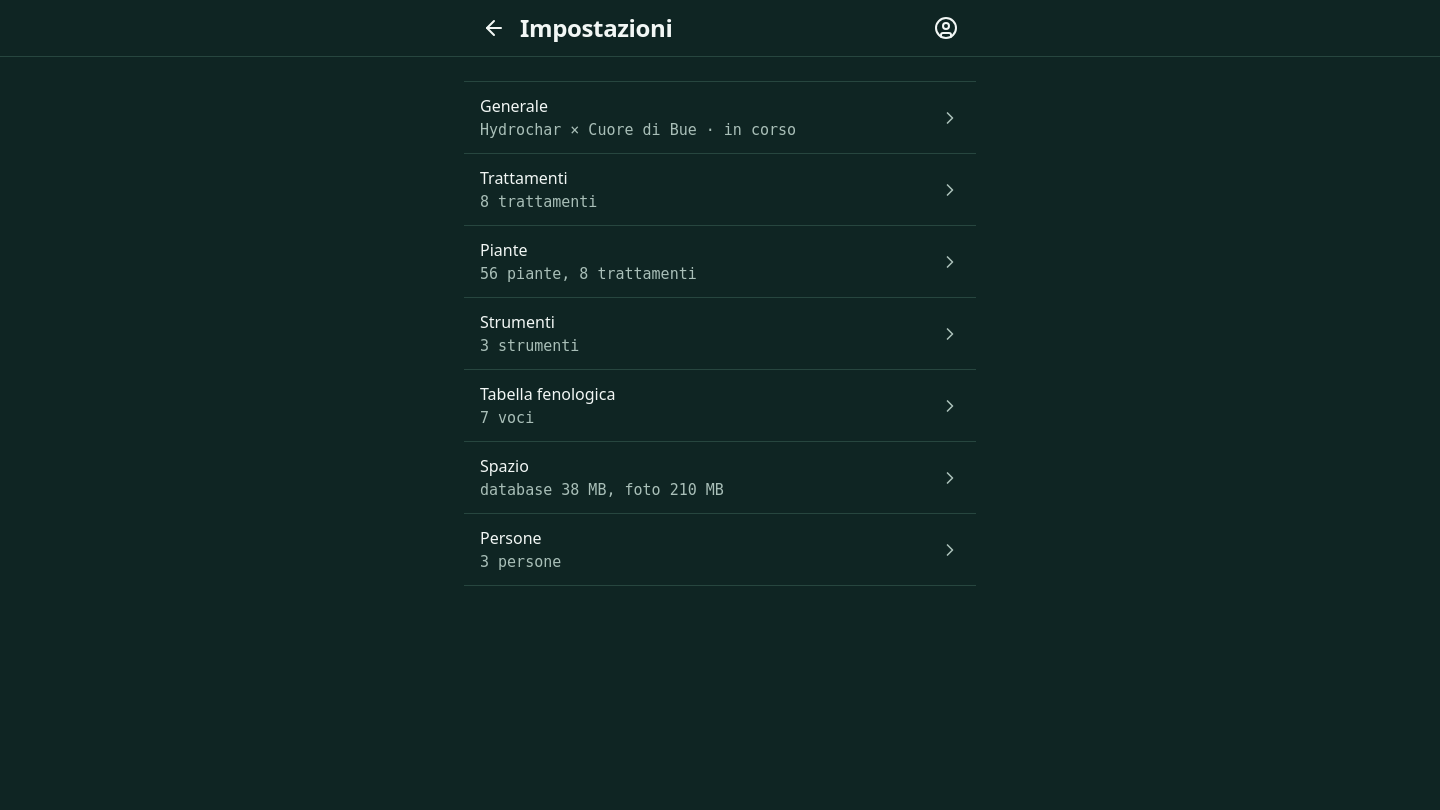
Test: indice delle Impostazioni › una riga porta alla pagina
Click the link "Persone 3 persone" at point(511, 538), box left=464, top=514, right=976, bottom=586
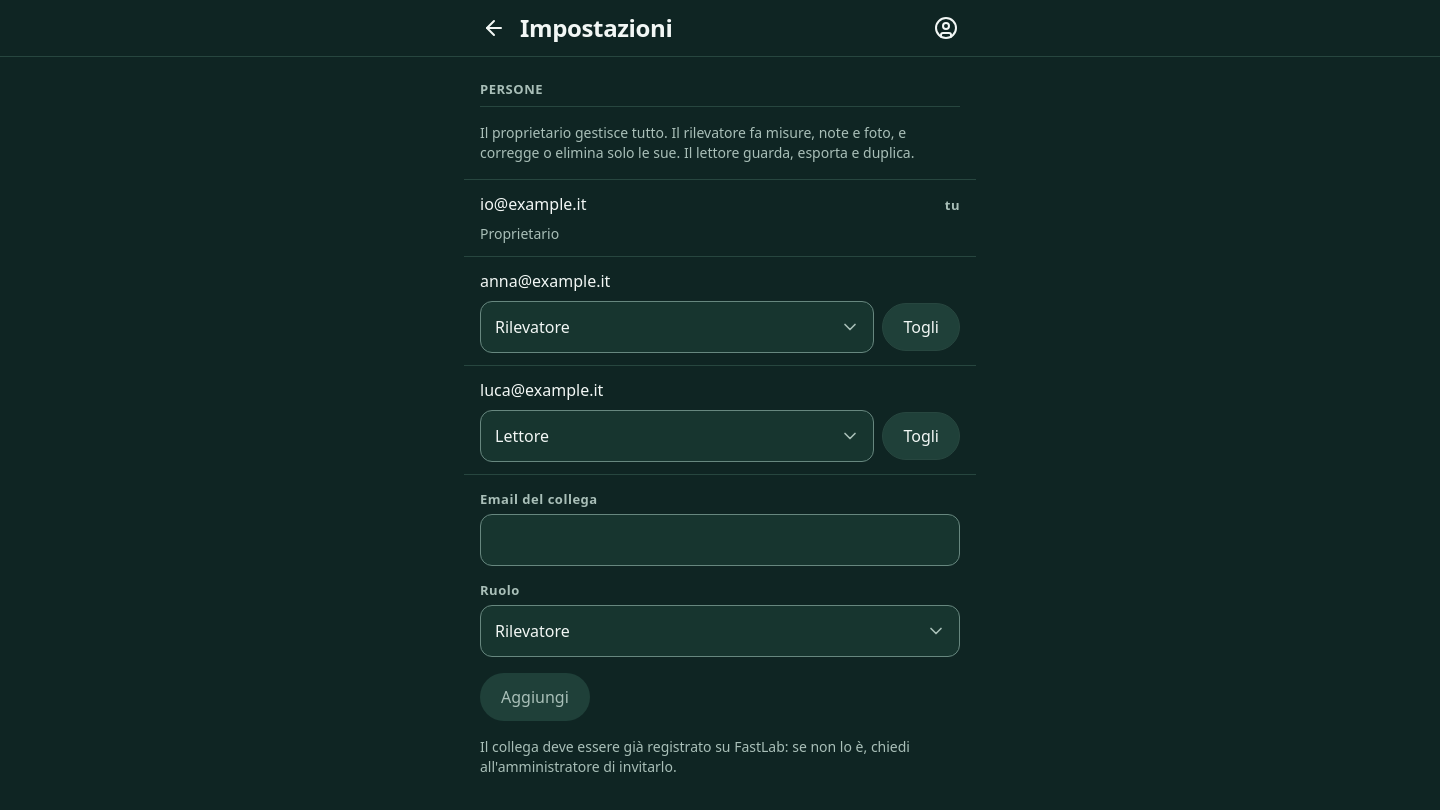
expect the element "Persone" is shown: met, box left=480, top=81, right=960, bottom=777
